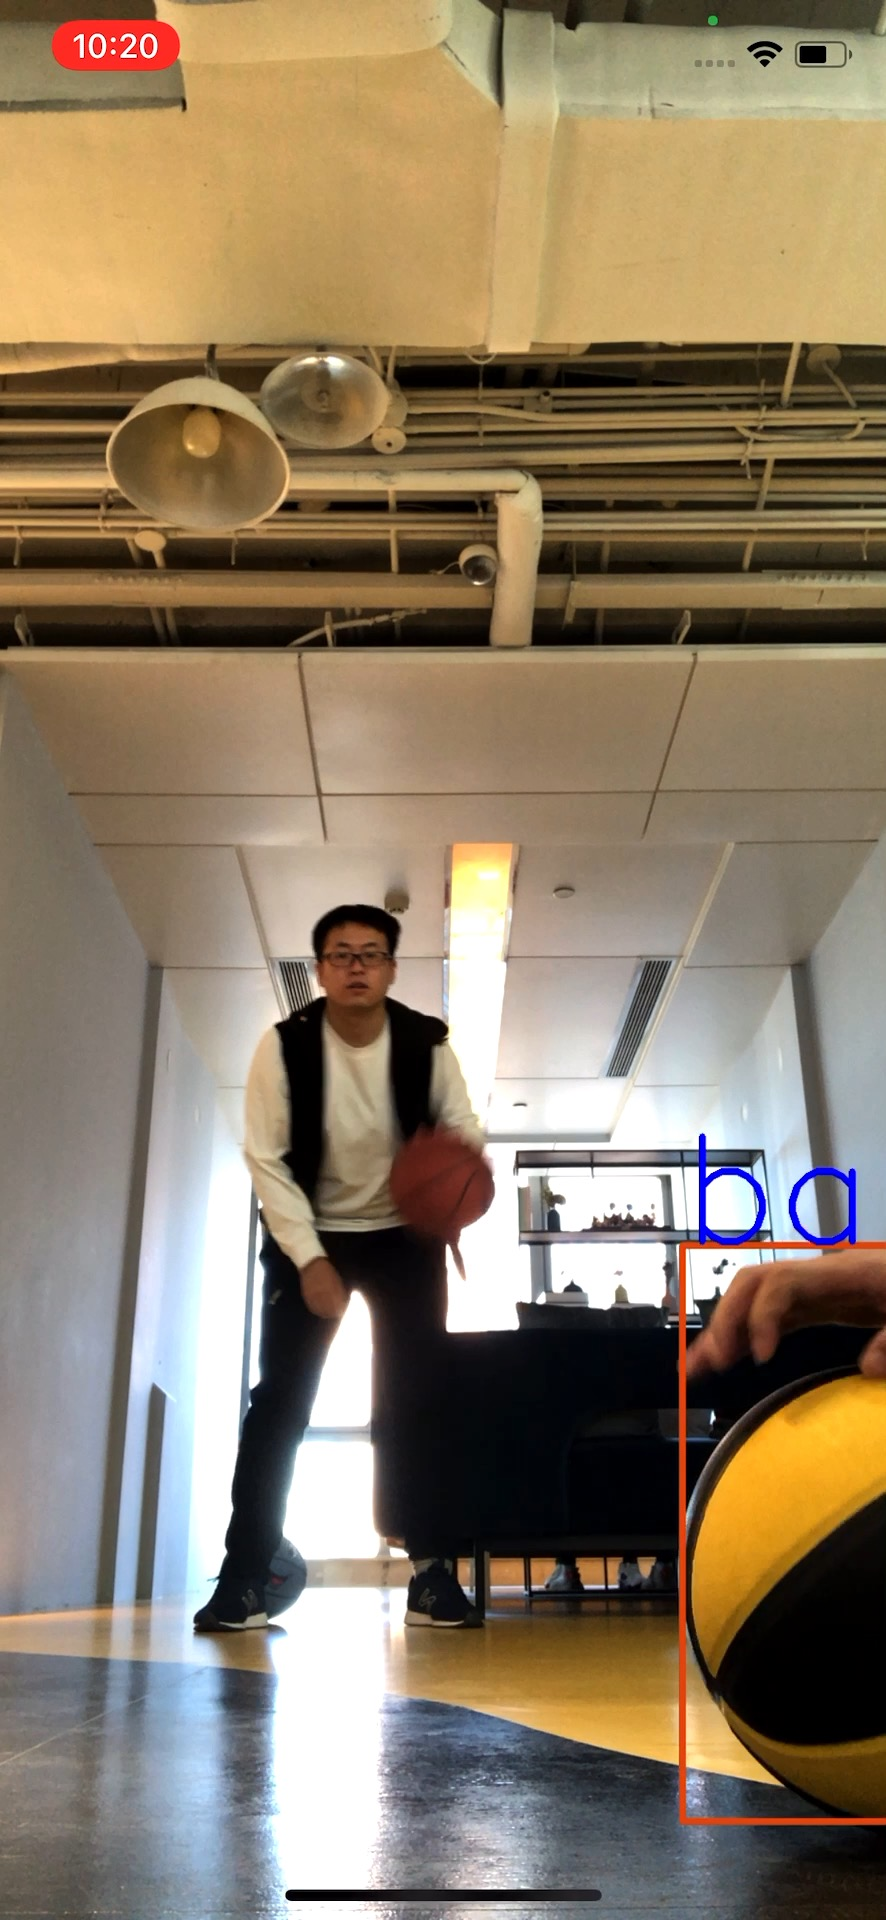ball: (696, 1337, 884, 1816), (388, 1131, 492, 1236)
